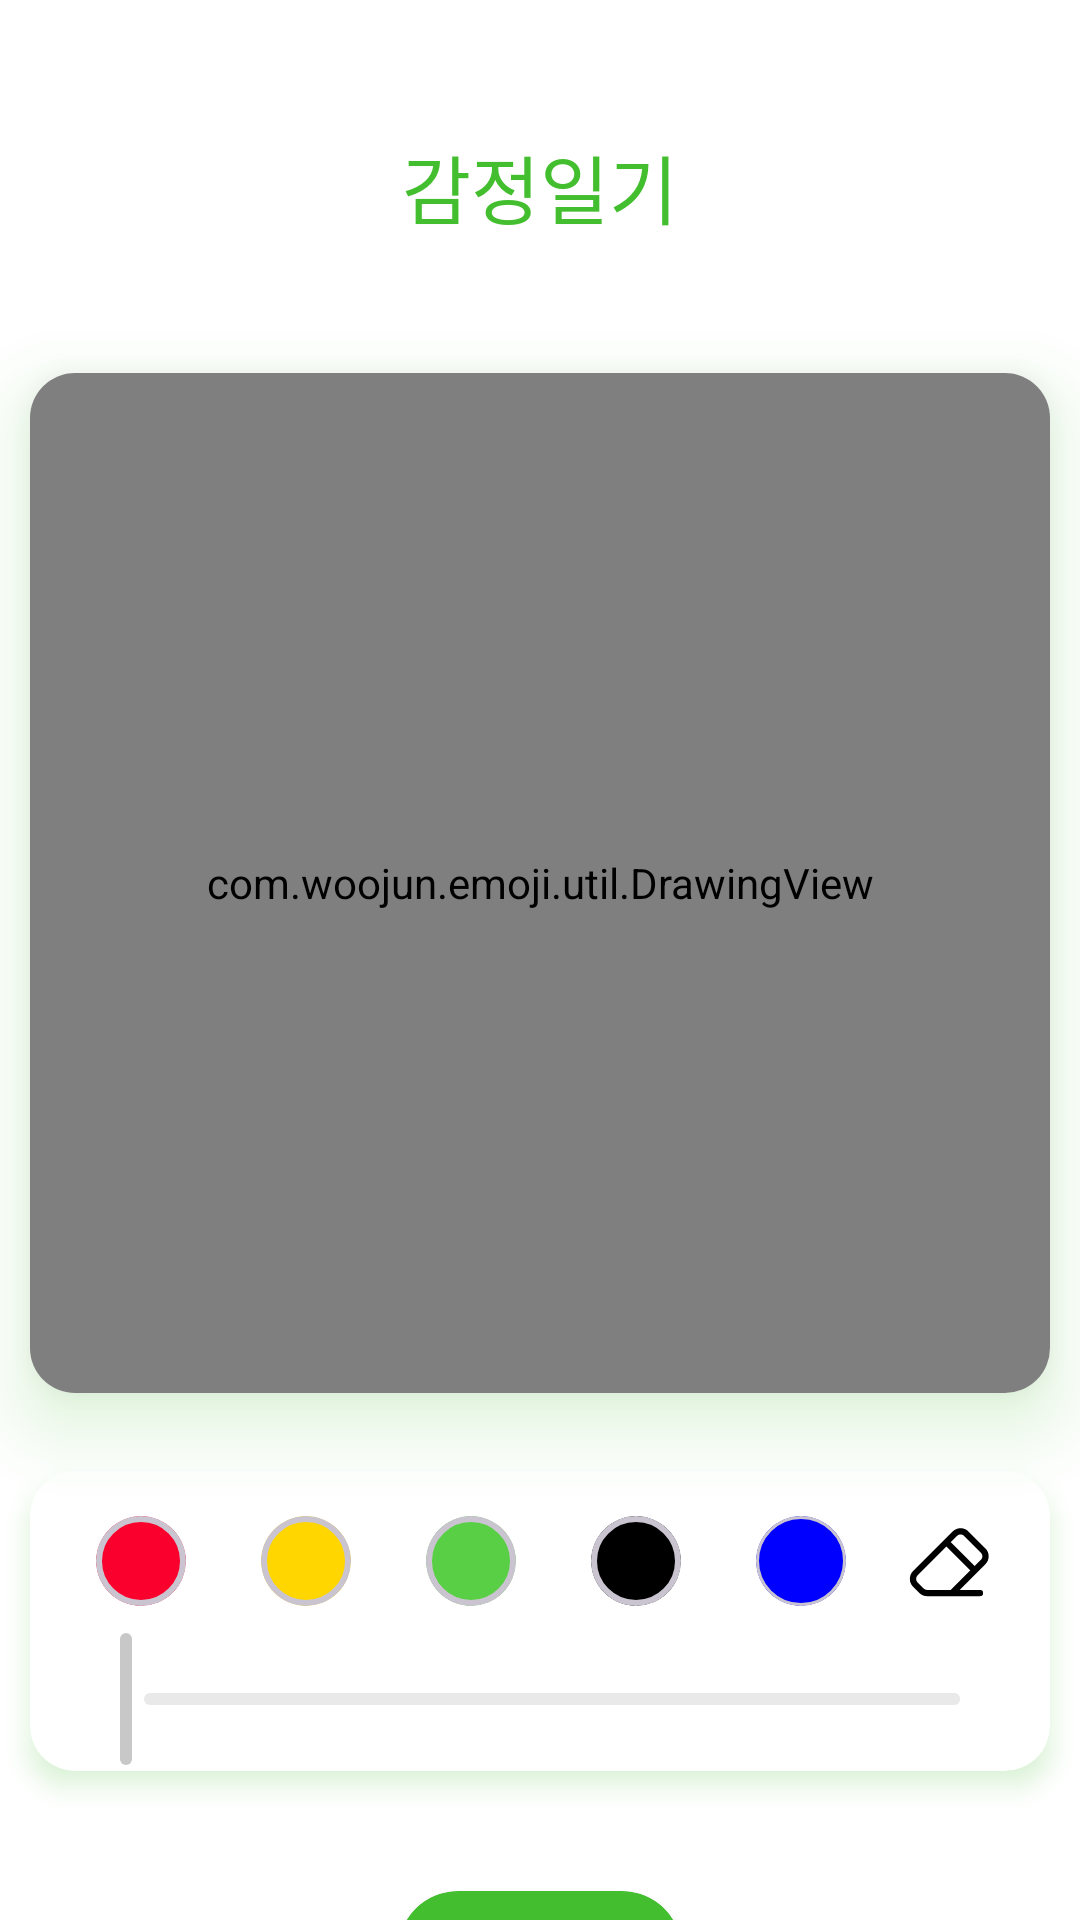

Icons on this 1080 × 1920 Android screen, each with the point to tap as [x,y]:
remover: [949,1562]
